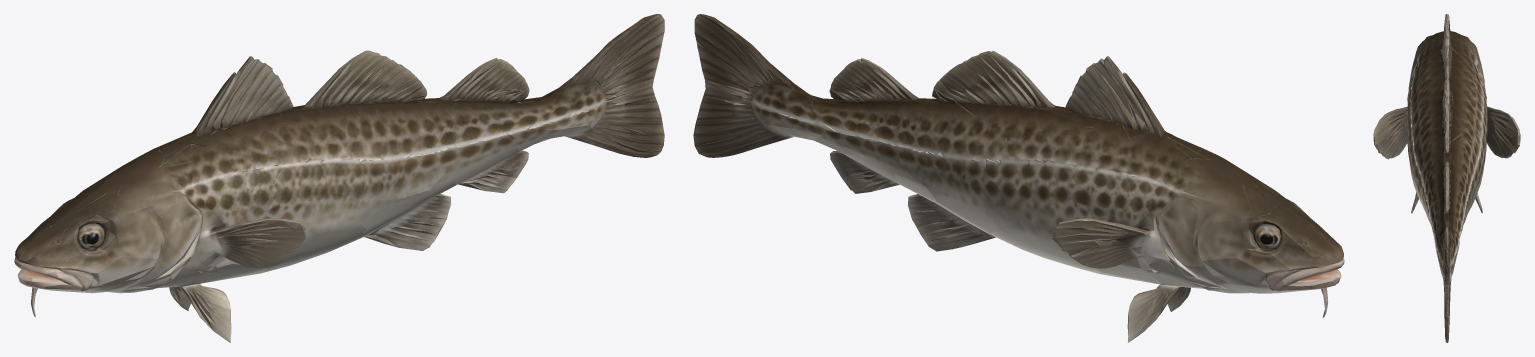
Rendered from fishCod.glb.
3 renders of one model, left to right at view 1: azimuth 30°, elevation 25°; view 2: azimuth 150°, elevation 25°; view 3: azimuth 270°, elevation 25°, orthographic. The views are drawn at different scales.
Parts seen in each view (by area): view 1: Mesh_0; view 2: Mesh_0; view 3: Mesh_0.
Part boxes in pixels (<box>): Mesh_0: <box>14,14,664,342</box>; Mesh_0: <box>693,14,1344,342</box>; Mesh_0: <box>1373,14,1520,342</box>.
Bounding box in the file's own units: 0.4 × 0.1534 × 0.0946.
Materials: 1 (1 with a texture image).
